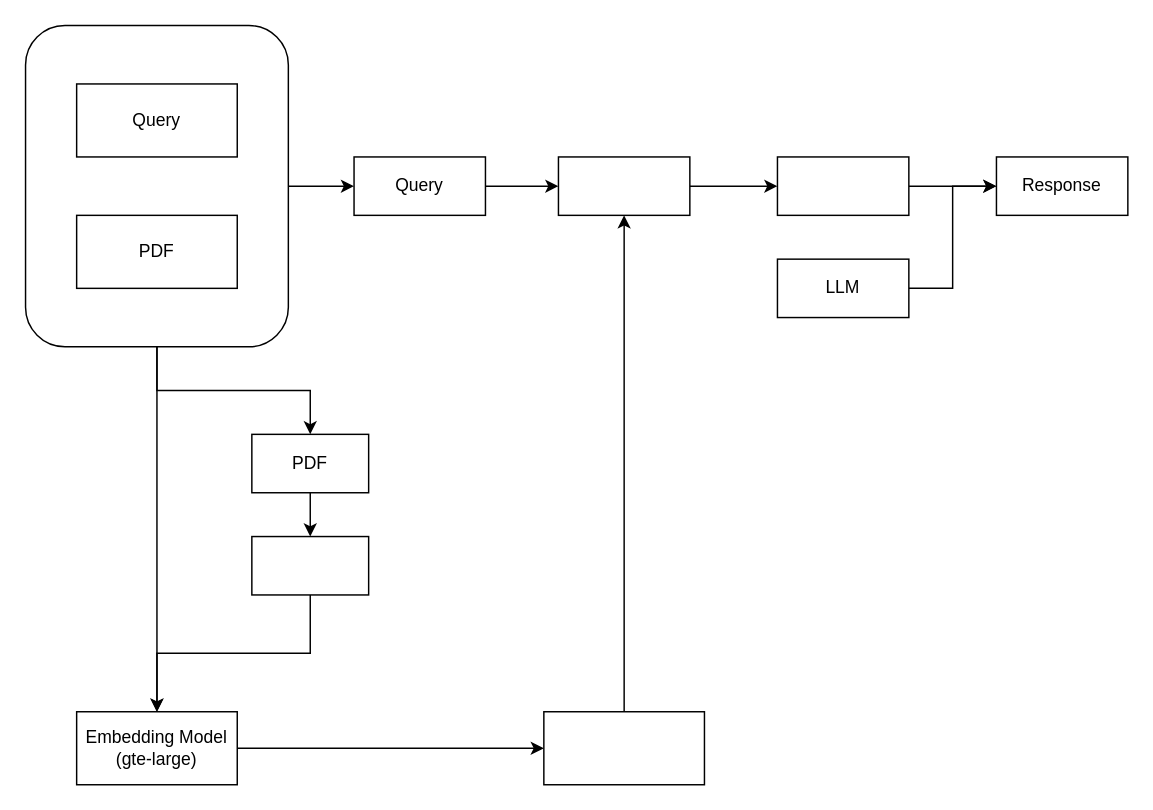
Some shapes in this 1153 by 810 pixel diagram are drawn without their labels. Here are the shapes that lost their labels. From the top down, the centre of each, then its label:
At [623,185]: "Retriever".
At [842,185]: "Relevant Docs".
At [309,565]: "Chunking".
At [623,747]: "FAISS vector database".
